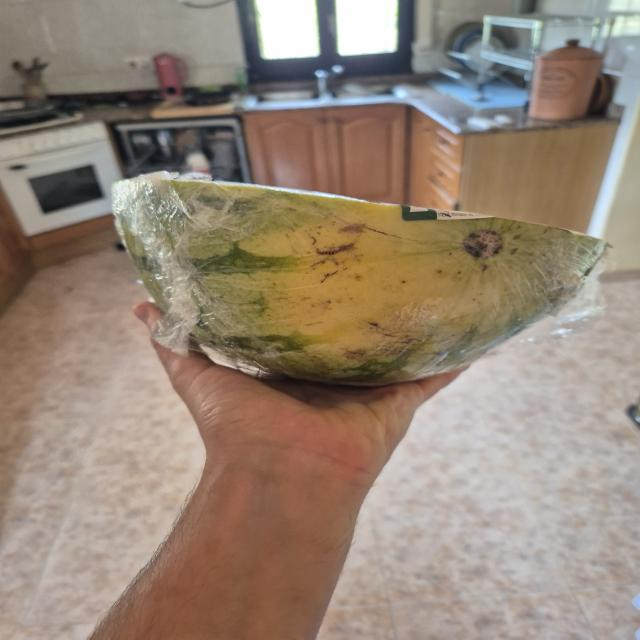sandia: (111, 177, 609, 390)
